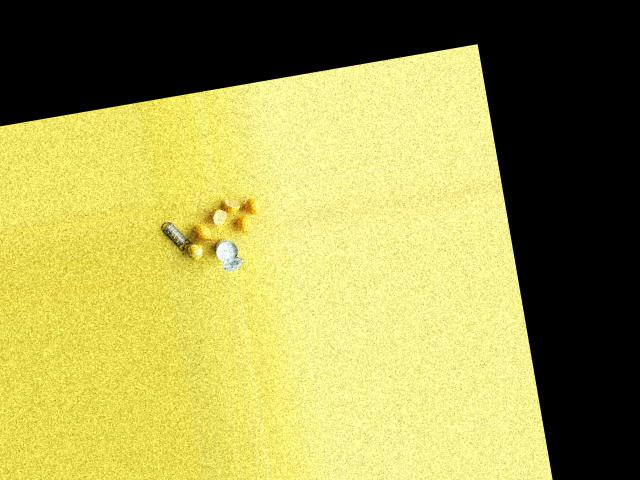lemon: (187, 239, 207, 261)
